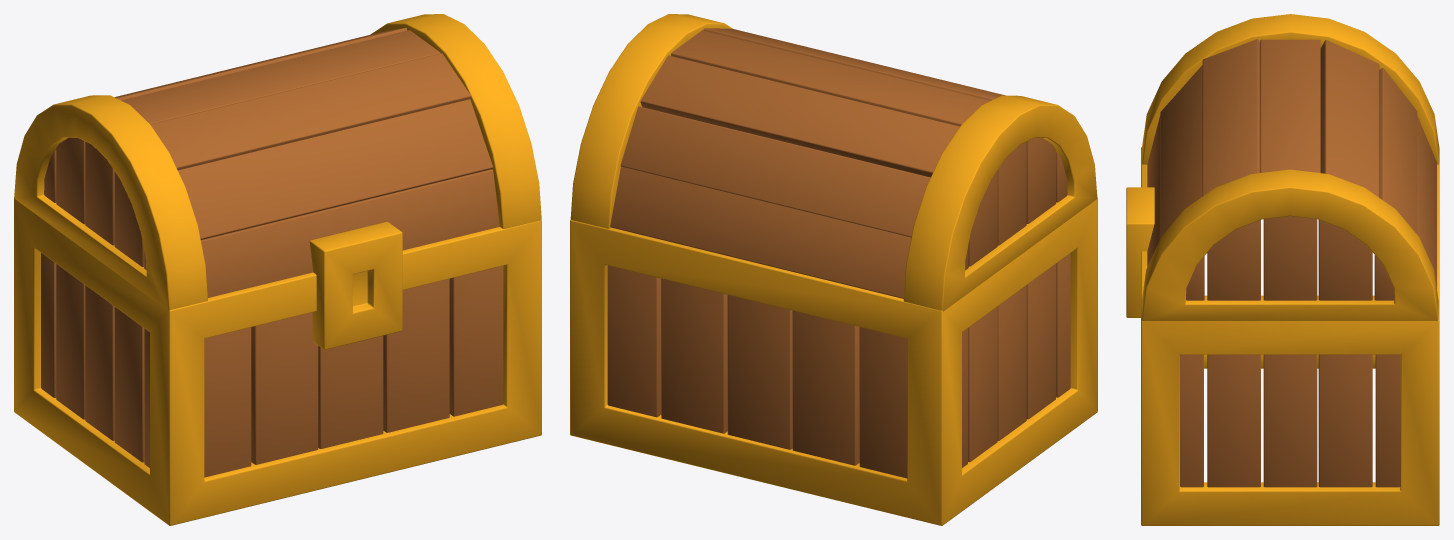
Rendered from Bau.fbx.
3 renders of one model, left to right at view 1: azimuth 30°, elevation 25°; view 2: azimuth 150°, elevation 25°; view 3: azimuth 270°, elevation 25°, orthographic. The views are drawn at different scales.
Parts seen in each view (by area): view 1: TampaBau, Bau; view 2: Bau, TampaBau; view 3: TampaBau, Bau.
Boxes of the visible parts, x1,y1,x2,y2 form: TampaBau: [14, 14, 541, 349]; Bau: [14, 197, 541, 525]; Bau: [570, 197, 1097, 525]; TampaBau: [570, 14, 1097, 311]; TampaBau: [1126, 14, 1439, 320]; Bau: [1141, 147, 1439, 525].
Size of the model in its own units: 181 by 165 by 138.
